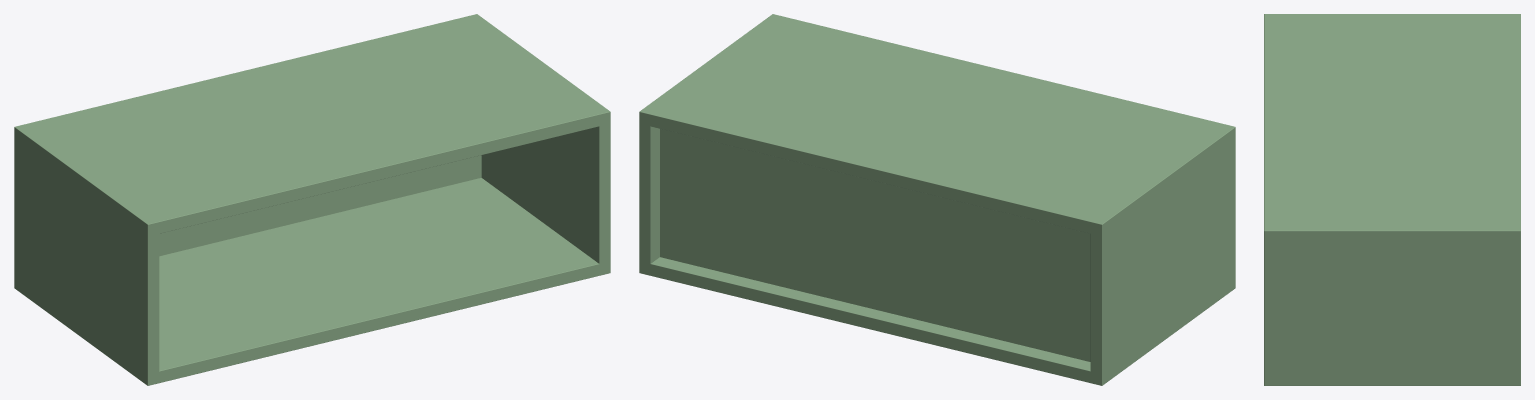
Rendered from MOD-2X07-A-B-SA.glb.
The picture shows the model from 3 angles, left to right: view 1: azimuth 30°, elevation 25°; view 2: azimuth 150°, elevation 25°; view 3: azimuth 270°, elevation 25°; orthographic projection. The views are drawn at different scales.
Bounding box in the file's own units: 720 × 240 × 360.
